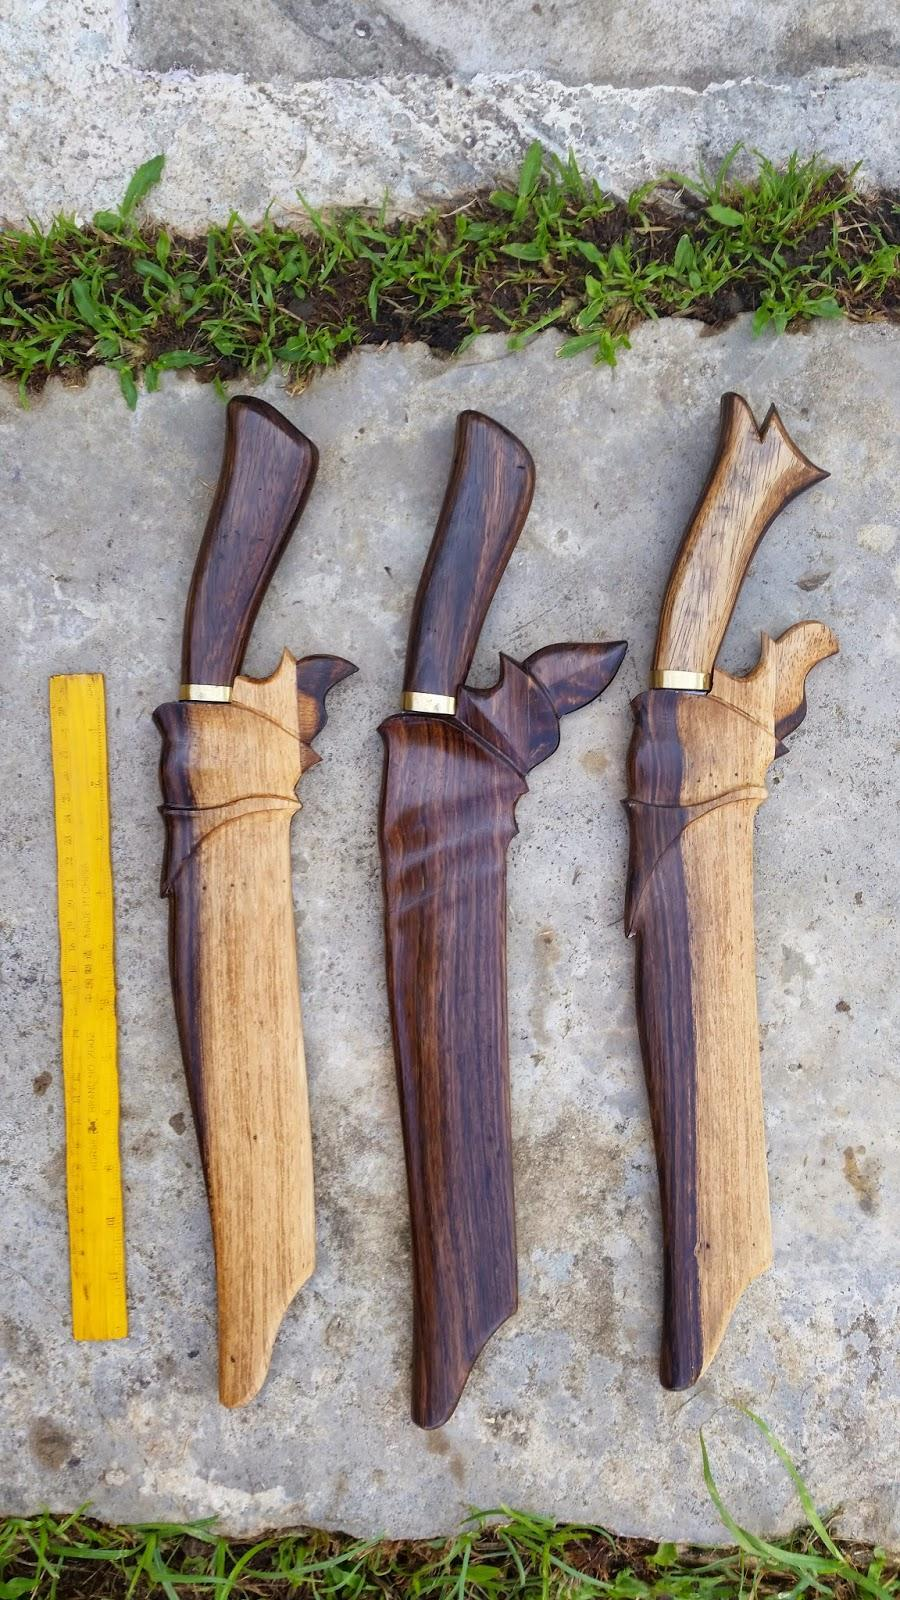facao: (151, 402, 338, 1351), (365, 390, 533, 1410), (645, 408, 785, 1388)
